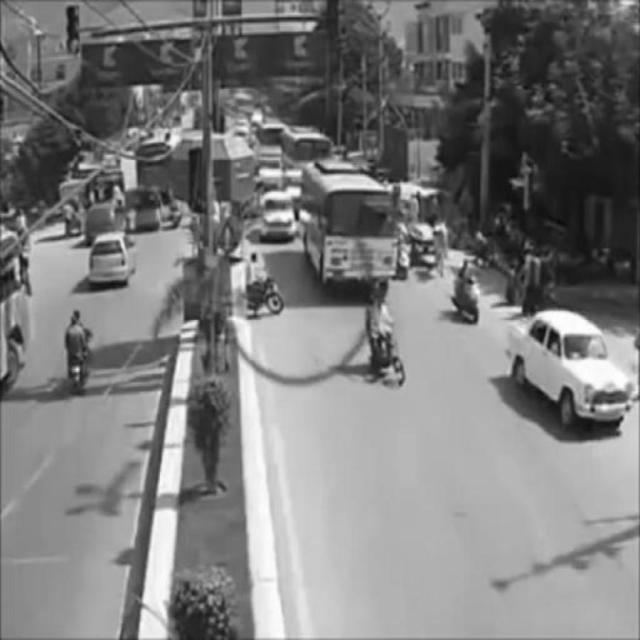vehicle: (508, 307, 630, 435), (302, 164, 396, 295), (358, 285, 406, 385), (60, 307, 96, 389), (245, 255, 283, 315), (89, 232, 133, 283), (450, 259, 484, 323), (260, 192, 295, 236)
